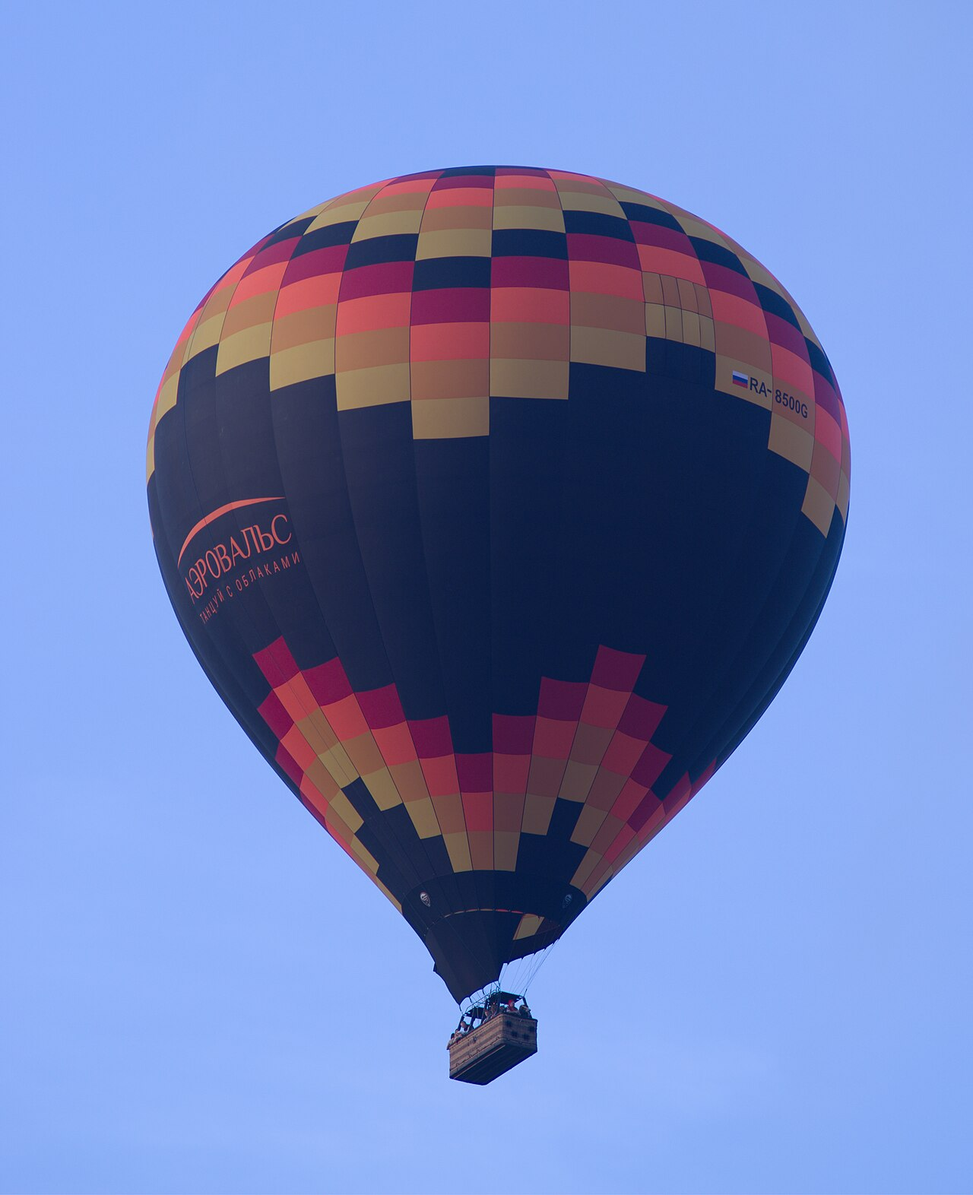balloon: (144, 158, 851, 1081)
